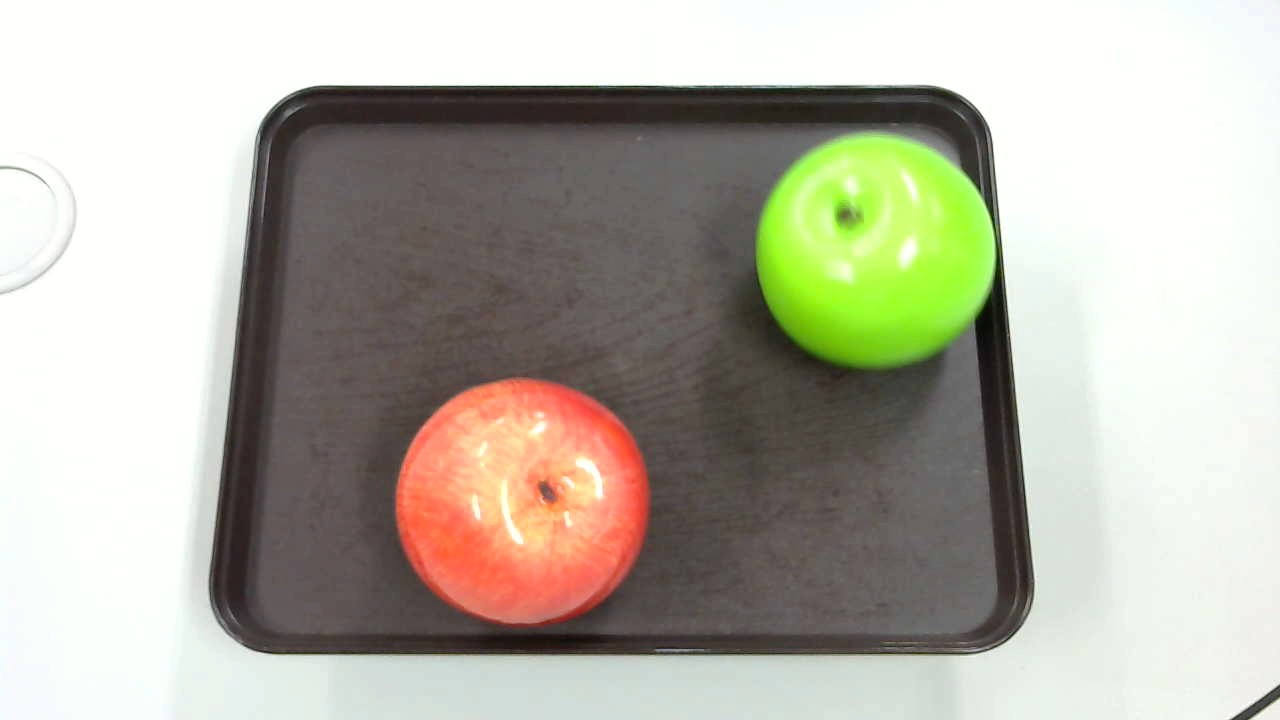green apple: (751, 116, 1002, 379)
red apple: (387, 376, 651, 627)
